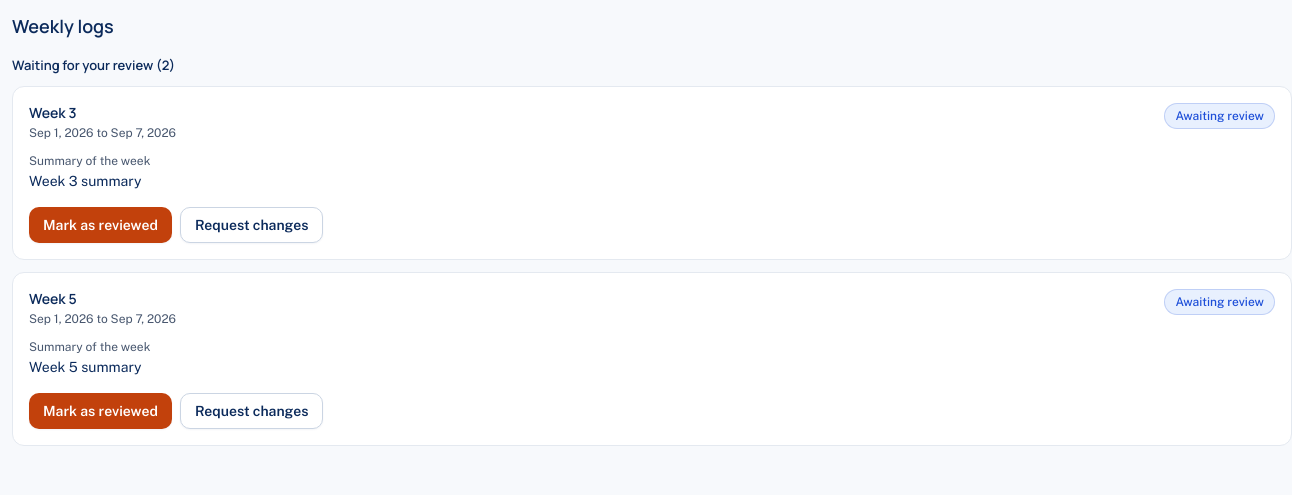
Test: academic review › keeps a failed command’s error on the log it was for
Click the button "Mark as reviewed" below "Week 3 summary".
click(100, 225)  # box [29,207,172,243]
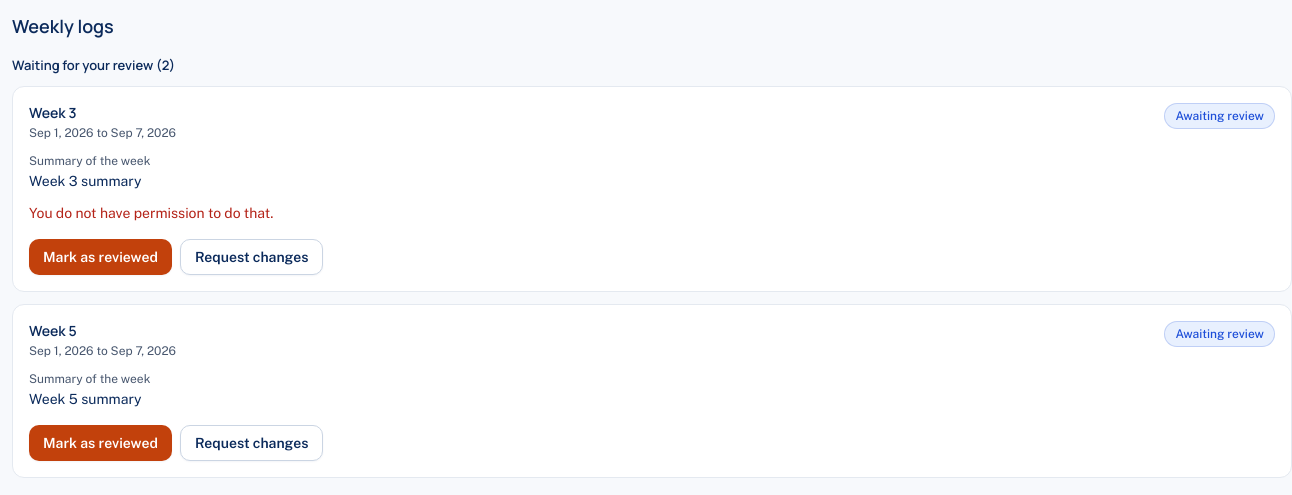
Now the message "You do not have permission to do that." is shown, box [29,205,273,221]
